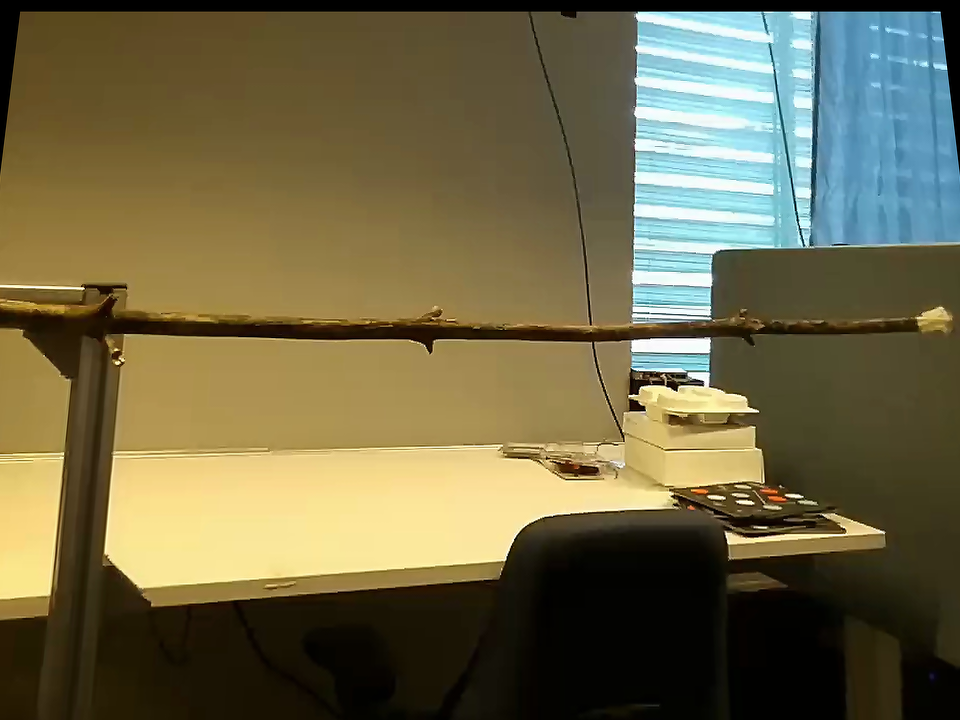branch: (209, 295, 877, 359)
